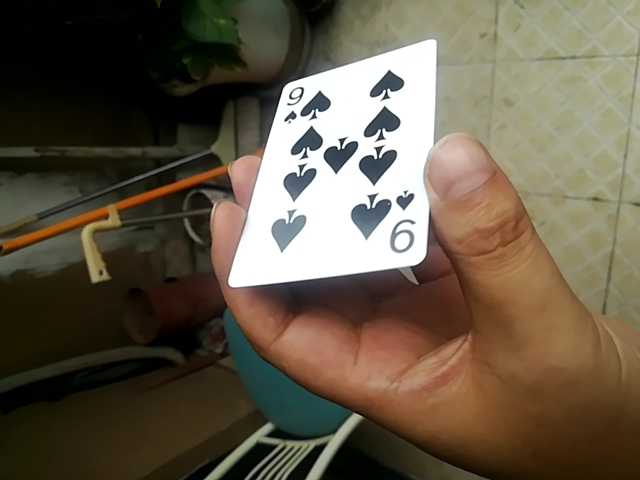ht 9: (226, 37, 438, 297)
